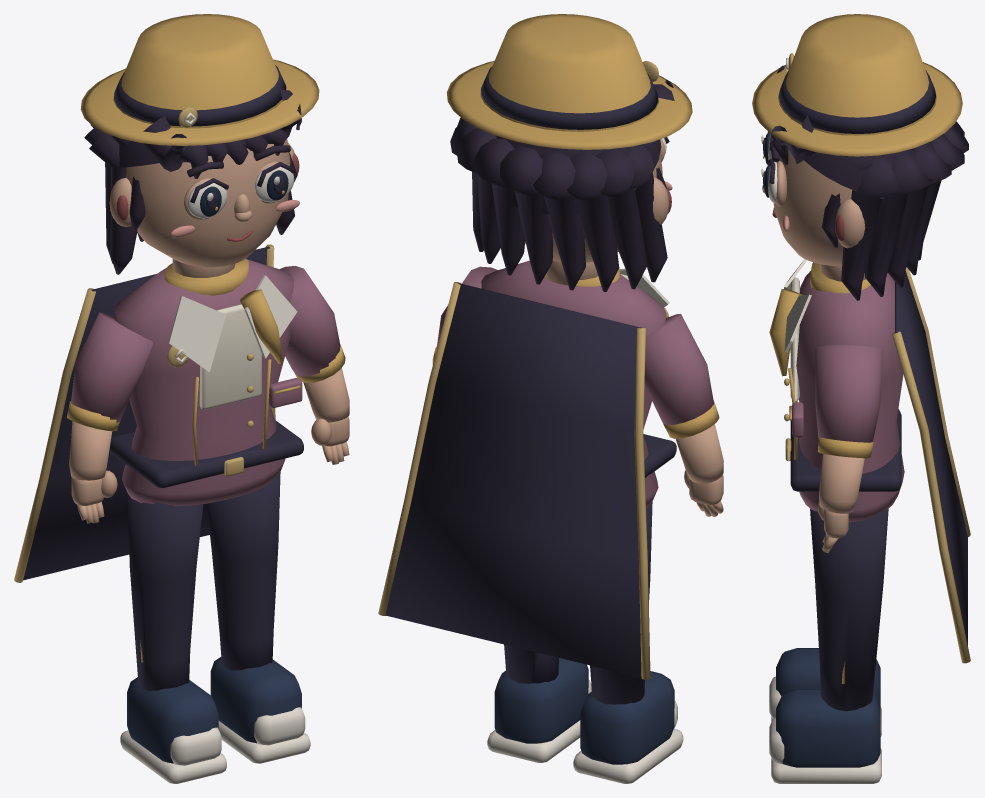
The model's file is elite_dragon_hunter.glb.
3 renders of one model, left to right at view 1: azimuth 30°, elevation 25°; view 2: azimuth 150°, elevation 25°; view 3: azimuth 270°, elevation 25°, orthographic. The views are drawn at different scales.
Parts seen in each view (by area): view 1: figure.027; view 2: figure.027; view 3: figure.027.
Part boxes in pixels (bbox=[...]): figure.027: bbox=[14, 14, 349, 783]; figure.027: bbox=[378, 14, 723, 783]; figure.027: bbox=[752, 14, 970, 783].
Bounding box in the file's own units: 1.08 × 2.63 × 0.7295.
